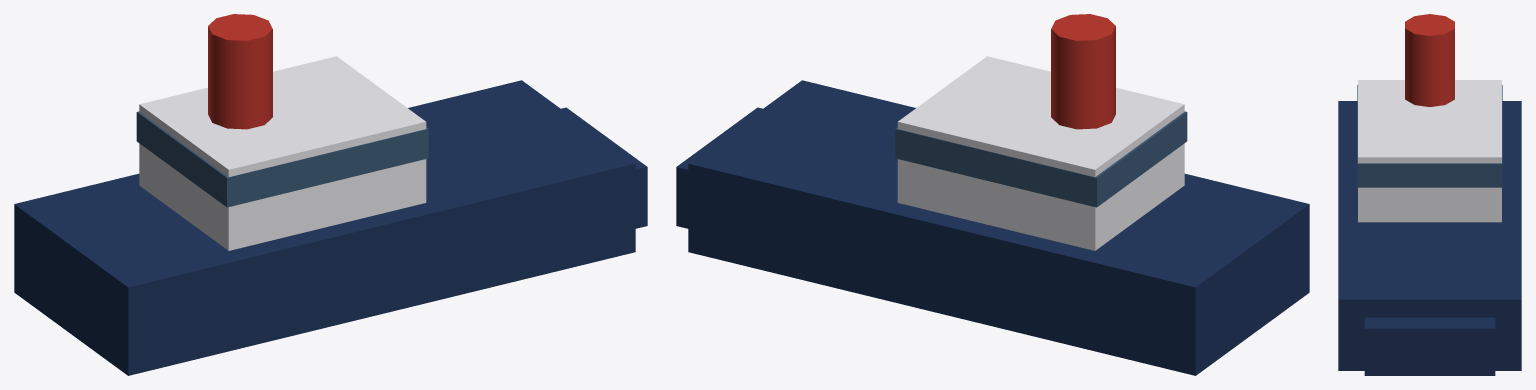
The model's file is ferry_1995.glb.
The picture shows the model from 3 angles, left to right: view 1: azimuth 30°, elevation 25°; view 2: azimuth 150°, elevation 25°; view 3: azimuth 270°, elevation 25°; orthographic projection. The views are drawn at different scales.
Visible parts, largest first — view 1: Hull, Cabin, Windows, Funnel, Bow; view 2: Hull, Cabin, Windows, Funnel, Bow; view 3: Hull, Cabin, Bow, Funnel, Windows.
Part boxes in pixels (bbox=[...]): Hull: bbox=[14, 80, 635, 375]; Cabin: bbox=[139, 56, 426, 250]; Windows: bbox=[136, 111, 428, 207]; Funnel: bbox=[208, 14, 272, 129]; Bow: bbox=[561, 107, 647, 228]; Hull: bbox=[688, 80, 1309, 375]; Cabin: bbox=[897, 56, 1184, 250]; Windows: bbox=[895, 111, 1187, 207]; Funnel: bbox=[1051, 14, 1115, 129]; Bow: bbox=[676, 107, 762, 228]; Hull: bbox=[1338, 101, 1521, 370]; Cabin: bbox=[1358, 80, 1501, 222]; Bow: bbox=[1364, 317, 1495, 375]; Funnel: bbox=[1405, 14, 1454, 106]; Windows: bbox=[1357, 85, 1502, 187].
Size of the model in its own units: 0.76 by 0.36 by 0.28.
